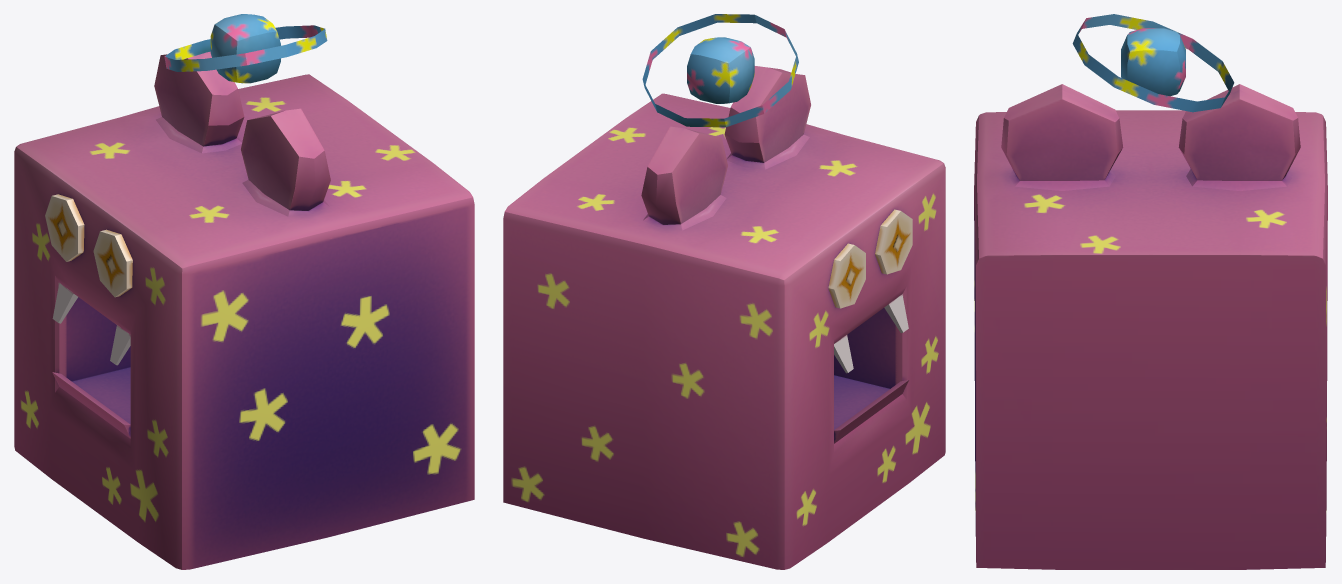
The model's file is TapeBox01.fbx.
3 renders of one model, left to right at view 1: azimuth 30°, elevation 25°; view 2: azimuth 150°, elevation 25°; view 3: azimuth 270°, elevation 25°, orthographic. The views are drawn at different scales.
Parts seen in each view (by area): view 1: Cylinder.021; view 2: Cylinder.021; view 3: Cylinder.021.
Boxes of the visible parts, x1,y1,x2,y2 form: Cylinder.021: [14, 14, 474, 569]; Cylinder.021: [503, 14, 945, 569]; Cylinder.021: [974, 14, 1327, 569].
Size of the model in its own units: 30.33 by 43.04 by 29.6.
1 material, 1 textured.
